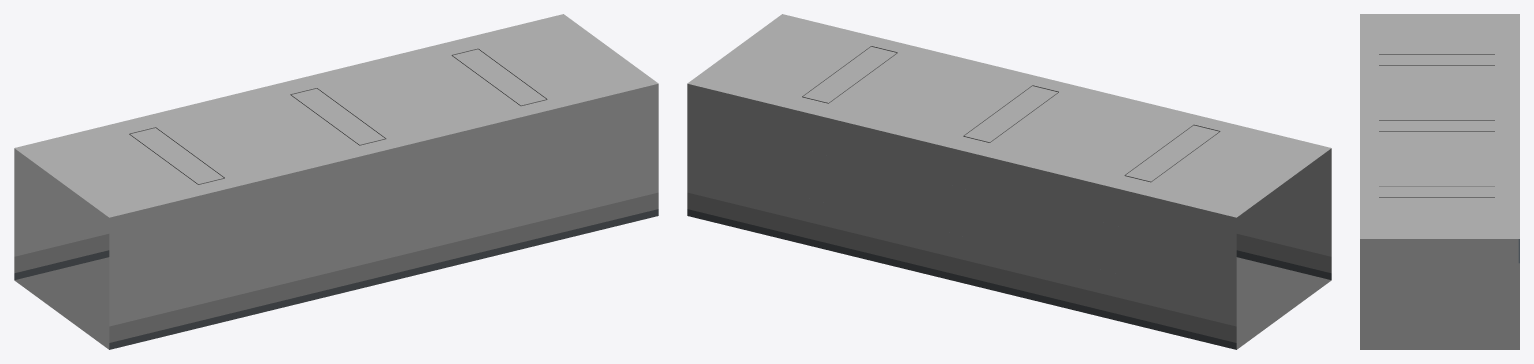
File: SM_Floor_Metro_03.fbx
The picture shows the model from 3 angles, left to right: view 1: azimuth 30°, elevation 25°; view 2: azimuth 150°, elevation 25°; view 3: azimuth 270°, elevation 25°; orthographic projection. The views are drawn at different scales.
Parts seen in each view (by area): view 1: SM_Floor_Metro_03; view 2: SM_Floor_Metro_03; view 3: SM_Floor_Metro_03.
Part boxes in pixels (x1,y1,x2,y2): SM_Floor_Metro_03: (14,14,658,349); SM_Floor_Metro_03: (687,14,1331,349); SM_Floor_Metro_03: (1360,14,1519,349).
Size of the model in its own units: 15 by 3.47 by 4.5.
